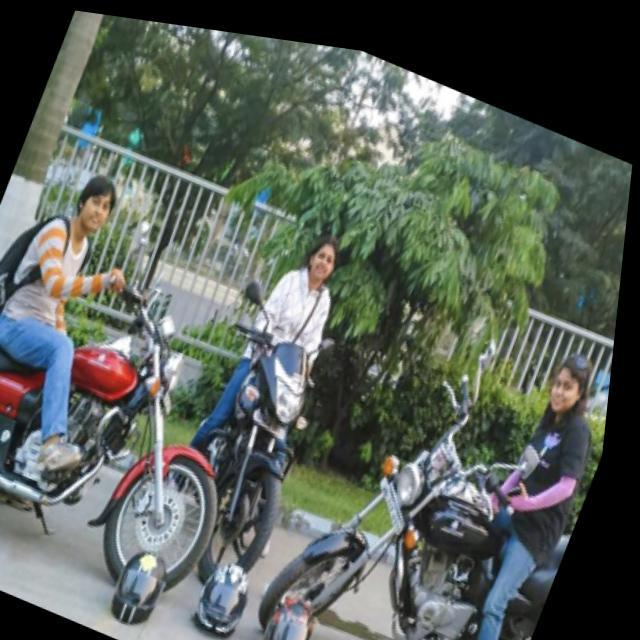Nonhelmet: (66, 168, 120, 246), (540, 347, 590, 427), (296, 230, 344, 287)
